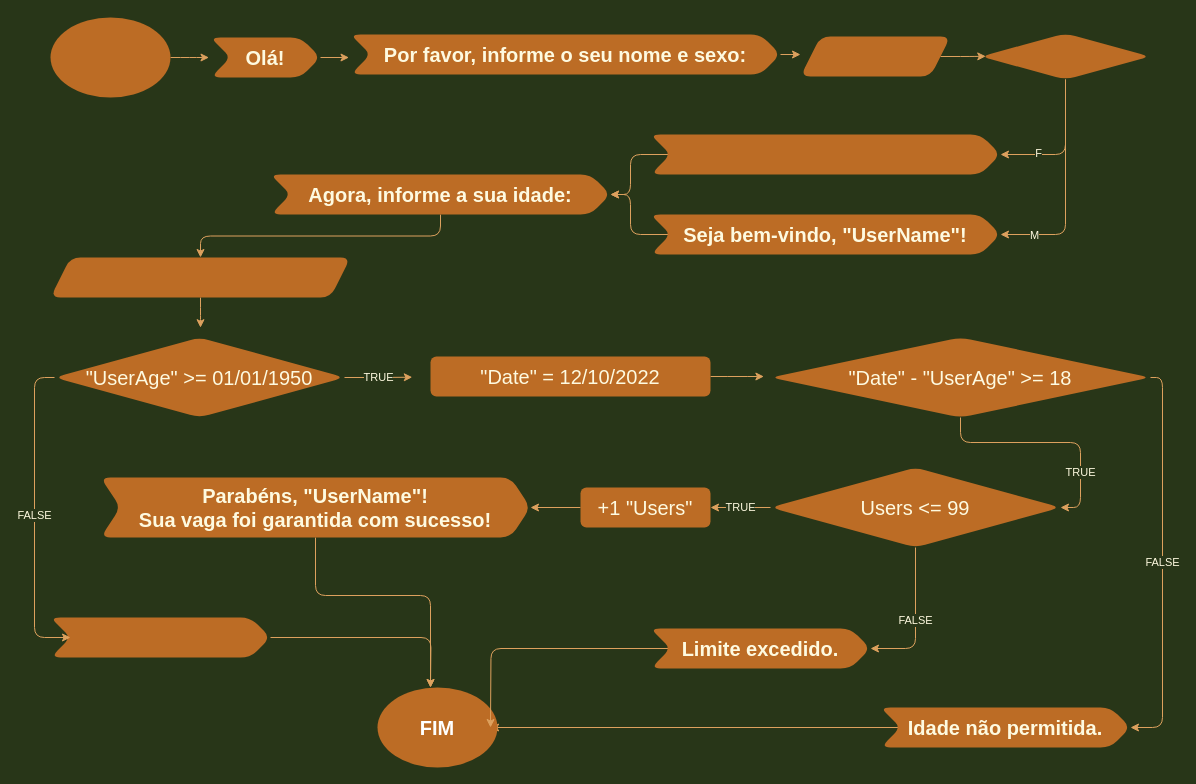
The diagram is 1196 pixels wide and 784 high, and some of its shapes have lost their labels. The centre of each missing label's shape, as x and y in pixels:
"UserAge" (Day/Month/Year): (200,277)
"UserName": (875,56)
Data inválida.: (160,637)
INÍCIO: (110,57)
M ou F: (1065,56)
Seja bem-vinda, "UserName"!: (825,154)
